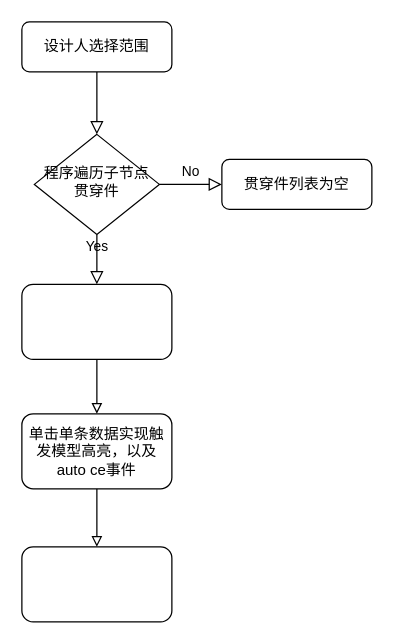
Image size: 394x644. Some labels were removed from this diagram. The box of each missing label's shape, as (x1, y1, x2, y2) in pixels:
在列表中的模型触发显示事件: (21, 283, 172, 359)
将列表导出Excel/CSV: (21, 546, 172, 622)
